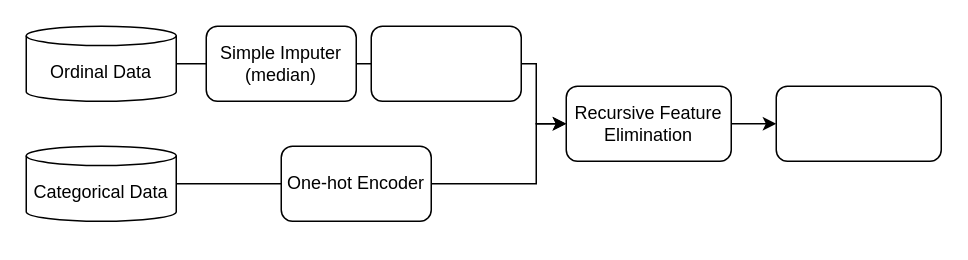
The diagram is 968 pixels wide and 260 high, and some of its shapes have lost their labels. The box of each missing label's shape, as (x1, y1, x2, y2) in pixels:
Min Max Scaler: (370, 25, 521, 101)
SGD Regressor: (775, 85, 941, 161)
